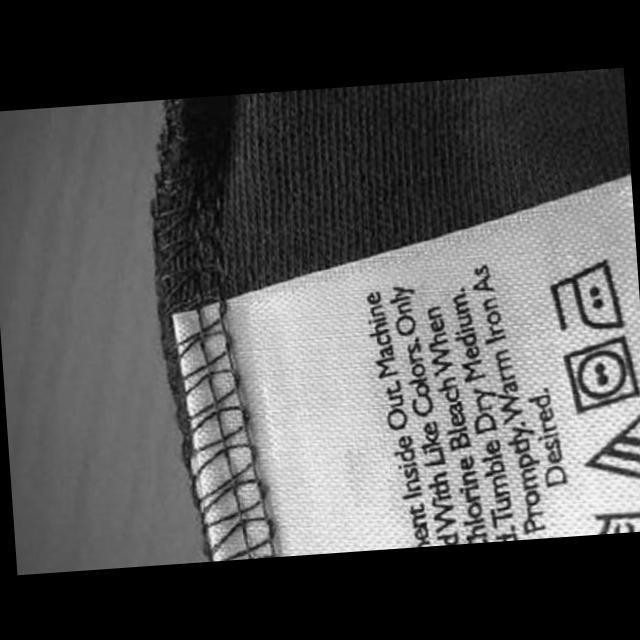iron_medium: (543, 254, 629, 337)
non_chlorine_bleach: (575, 404, 640, 490)
tumble_dry_medium: (557, 326, 640, 419)
